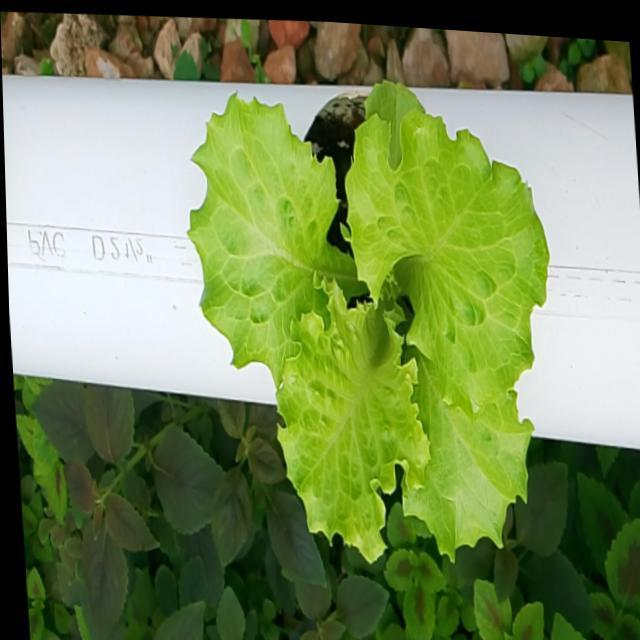Baby: (188, 90, 546, 570)
